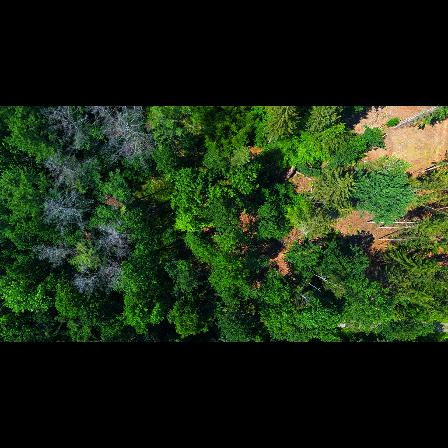Dead: (41, 107, 102, 150), (110, 108, 156, 161), (77, 255, 131, 294), (42, 195, 97, 229), (28, 238, 79, 268), (96, 220, 136, 252)
